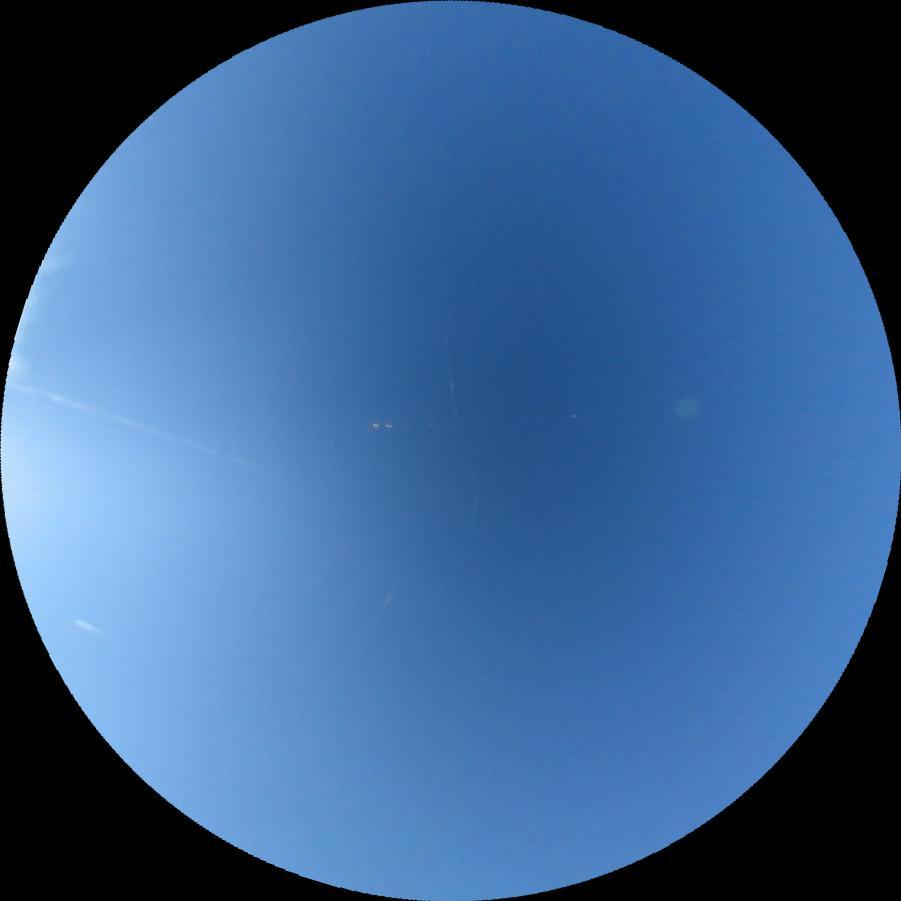contrail young: (68, 615, 110, 640)
parasite: (7, 376, 289, 488)
